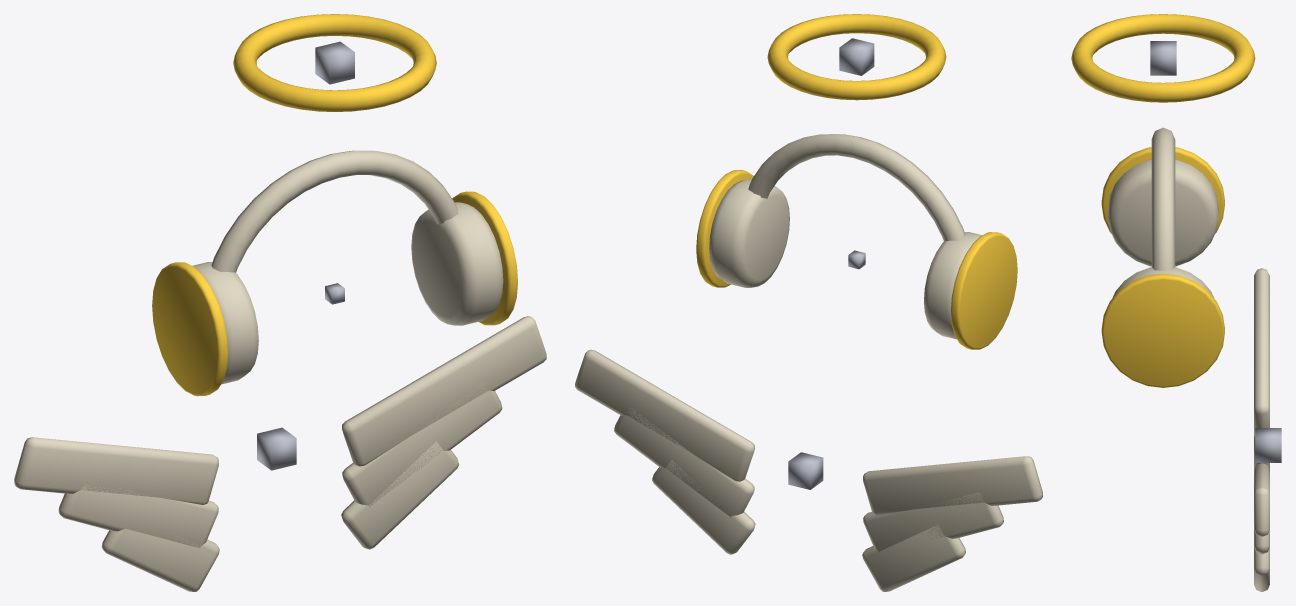
File: Divine.fbx
3 views of the same model, side by side, from view 1: azimuth 30°, elevation 25°; view 2: azimuth 150°, elevation 25°; view 3: azimuth 270°, elevation 25° (orthographic). The views are drawn at different scales.
Parts seen in each view (by area): view 1: Ivory, Flap_Wing1_0, Flap_Wing-1_0, Float_Halo, Pulse_Ring-1, Flap_Wing-1_1, Flap_Wing1_1, Flap_Wing1_2, Flap_Wing-1_2, Pulse_Ring1, FXPoint_Feathers, FXPoint_Glow; view 2: Ivory, Flap_Wing1_0, Flap_Wing-1_0, Float_Halo, Pulse_Ring-1, Flap_Wing1_1, Flap_Wing-1_1, Flap_Wing-1_2, Flap_Wing1_2, Pulse_Ring1, FXPoint_Feathers, FXPoint_Glow; view 3: Pulse_Ring1, Ivory, Float_Halo, Flap_Wing-1_0, Pulse_Ring-1, Flap_Wing1_0, FXPoint_Feathers, FXPoint_Glow, Flap_Wing1_2, Flap_Wing1_1.
Part boxes in pixels (<box>): Ivory: <box>192,150,503,384</box>; Flap_Wing1_0: <box>342,316,546,466</box>; Flap_Wing-1_0: <box>14,437,218,504</box>; Float_Halo: <box>233,14,436,111</box>; Pulse_Ring-1: <box>152,262,228,396</box>; Flap_Wing-1_1: <box>58,484,218,548</box>; Flap_Wing1_1: <box>342,383,502,506</box>; Flap_Wing1_2: <box>341,441,459,549</box>; Flap_Wing-1_2: <box>101,528,219,591</box>; Pulse_Ring1: <box>452,191,517,325</box>; FXPoint_Feathers: <box>257,427,296,470</box>; FXPoint_Glow: <box>315,41,354,84</box>; Ivory: <box>709,134,981,339</box>; Flap_Wing1_0: <box>575,349,754,481</box>; Flap_Wing-1_0: <box>863,456,1042,515</box>; Float_Halo: <box>767,14,946,100</box>; Pulse_Ring-1: <box>951,232,1017,349</box>; Flap_Wing1_1: <box>614,407,754,517</box>; Flap_Wing-1_1: <box>863,492,1003,551</box>; Flap_Wing-1_2: <box>862,525,965,591</box>; Flap_Wing1_2: <box>652,460,755,554</box>; Pulse_Ring1: <box>696,170,753,287</box>; FXPoint_Feathers: <box>788,452,823,489</box>; FXPoint_Glow: <box>839,38,874,75</box>; Pulse_Ring1: <box>1101,273,1224,387</box>; Ivory: <box>1108,127,1218,298</box>; Float_Halo: <box>1071,14,1255,102</box>; Flap_Wing-1_0: <box>1254,268,1269,437</box>; Pulse_Ring-1: <box>1101,147,1224,233</box>; Flap_Wing1_0: <box>1254,463,1269,536</box>; FXPoint_Feathers: <box>1255,428,1281,462</box>; FXPoint_Glow: <box>1150,41,1176,75</box>; Flap_Wing1_2: <box>1254,547,1269,591</box>; Flap_Wing1_1: <box>1254,530,1269,554</box>.
Size of the model in its own units: 4.21 by 4.25 by 1.6.
